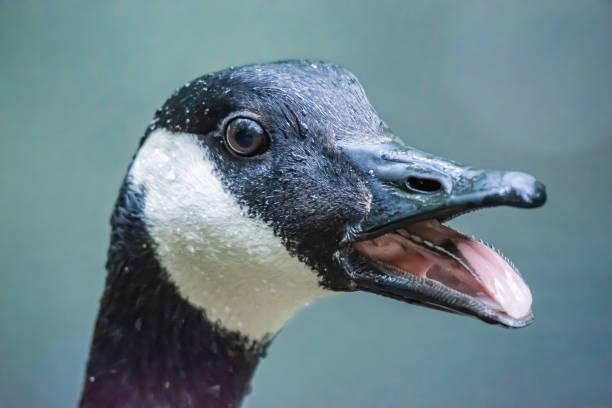Canadian-Goose: (77, 60, 547, 406)
